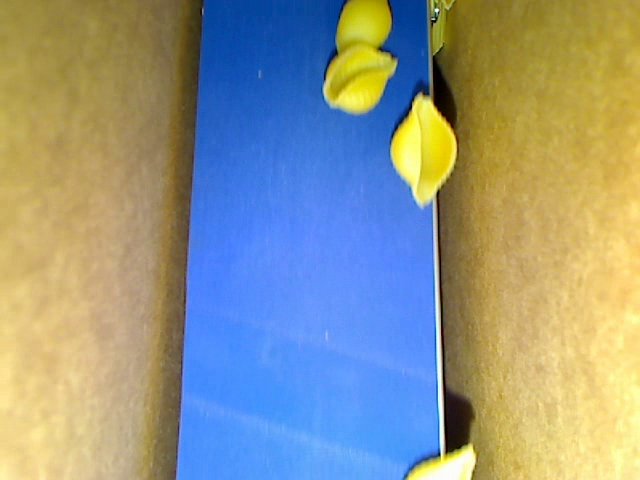penne: (428, 1, 446, 62), (440, 1, 458, 11)
shell: (390, 92, 457, 207), (320, 45, 396, 119), (333, 1, 391, 59), (404, 438, 476, 479)
